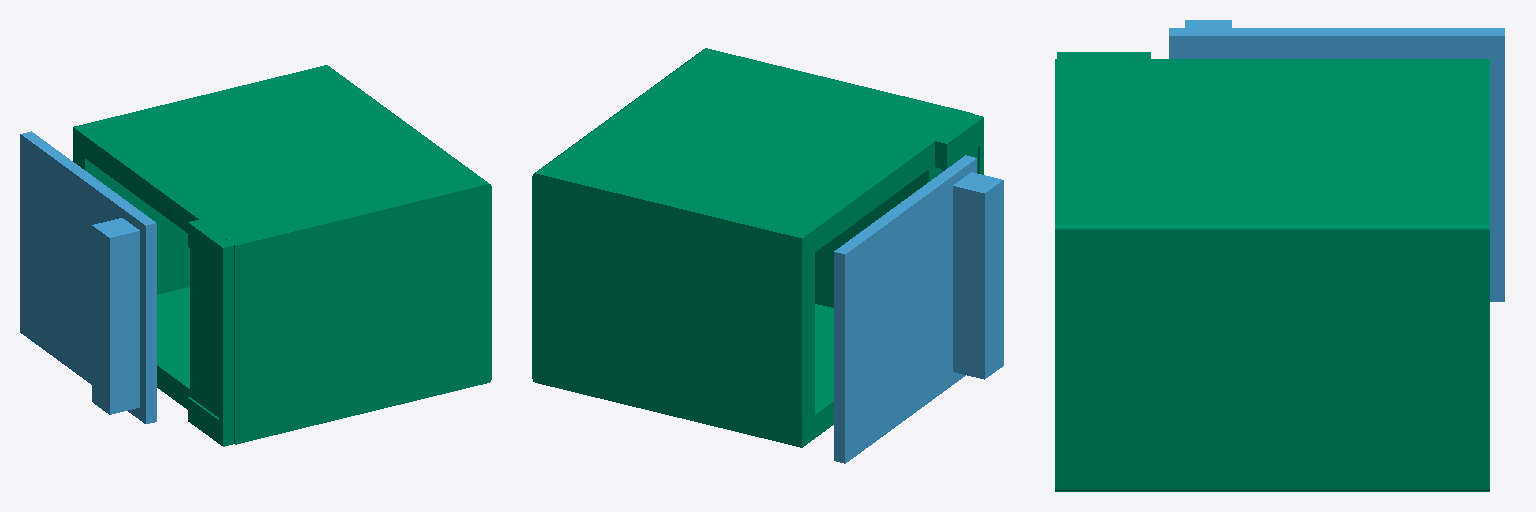
robot.urdf — partnet_c3bb5f3c842a6c2d178e7d331e641179:
<?xml version="1.0" ?>
<robot name="partnet_c3bb5f3c842a6c2d178e7d331e641179">
	<link name="base"/>

	<link name="link_0">
		<visual name="door">
			<origin xyz="0.6430403380134146 0.42593899369239807 -0.5477944794777341"/>
			<geometry>
				<mesh filename="new_door_space.obj"/>
			</geometry>
		</visual>
		<collision>
			<origin xyz="0.6430403380134146 0.42593899369239807 -0.5477944794777341"/>
			<geometry>
				<mesh filename="new_door_space.obj"/>
			</geometry>
		</collision>
		<visual name="door_handle">
			<origin xyz="0.6430403380134146 0.42593899369239807 -0.5477944794777341"/>
			<geometry>
				<mesh filename="new_door_handle_space.obj"/>
			</geometry>
		</visual>
		<collision>
			<origin xyz="0.6430403380134146 0.42593899369239807 -0.5477944794777341"/>
			<geometry>
				<mesh filename="new_door_handle_space.obj"/>
			</geometry>
		</collision>
	</link>
	<joint name="joint_0" type="revolute">
		<origin xyz="-0.6430403380134146 -0.42593899369239807 0.5477944794777341"/>
		<axis xyz="0 -1 0"/>
		<child link="link_0"/>
		<parent link="link_1"/>
		<limit lower="0.0" upper="1.5707963267948966"/>
	</joint>
	<link name="link_1">
		<visual name="frame-2">
			<origin xyz="0 0 0"/>
			<geometry>
				<mesh filename="body.obj"/>
			</geometry>
		</visual>
		<collision>
			<origin xyz="0 0 0"/>
			<geometry>
				<mesh filename="body.obj"/>
			</geometry>
		</collision>
	</link>
	<joint name="joint_1" type="fixed">
		<origin rpy="1.570796326794897 0 -1.570796326794897" xyz="0 0 0"/>
		<child link="link_1"/>
		<parent link="base"/>
	</joint>

</robot>

--- Render facts (derived) ---
Views: 3 orthographic renders of the robot side by side, from view 1: azimuth 30°, elevation 25°; view 2: azimuth 150°, elevation 25°; view 3: azimuth 270°, elevation 25°.
Model partnet_c3bb5f3c842a6c2d178e7d331e641179 with 3 links and 2 joints (1 revolute, 1 fixed), rooted at base, posed all joints at 0.
Visible links, largest first — view 1: link_1, link_0; view 2: link_1, link_0; view 3: link_1, link_0.
Link boxes in pixels (box(x1,y1,x2,y2)): link_1: box(73, 65, 491, 446); link_0: box(20, 131, 156, 423); link_1: box(532, 48, 983, 447); link_0: box(834, 155, 1003, 463); link_1: box(1055, 52, 1489, 491); link_0: box(1169, 20, 1504, 301).
Bounding box of the posed robot: 1.56 × 1.36 × 0.8905 m (x, y, z).
Meshes: 3 distinct files referenced, 3 mesh visuals loaded (3 OBJ).
